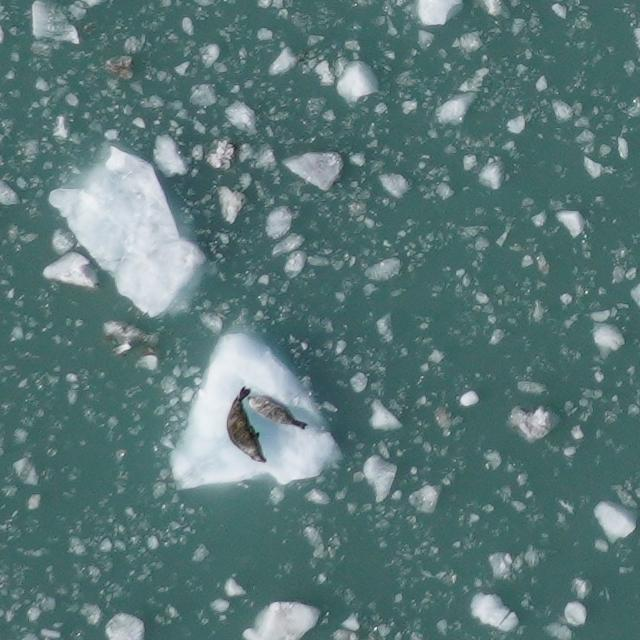seal: (222, 382, 271, 468), (241, 390, 313, 432)
